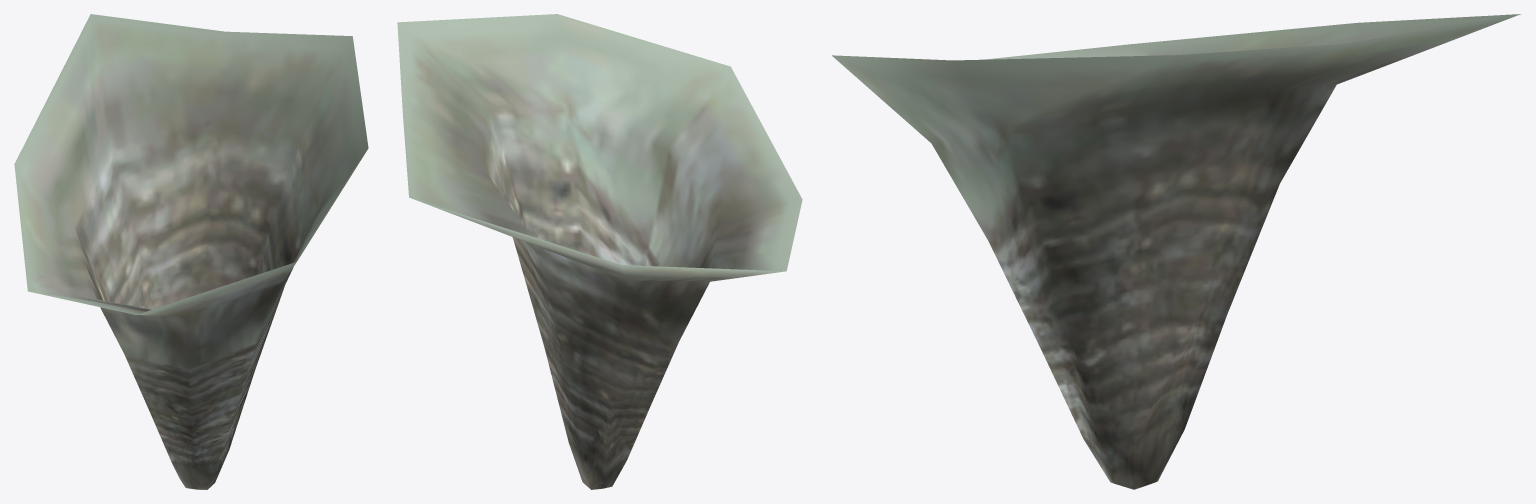
The model's file is TROLLHOLE02_PS-SECRETSTALAG27.fbx.
3 renders of one model, left to right at view 1: azimuth 30°, elevation 25°; view 2: azimuth 150°, elevation 25°; view 3: azimuth 270°, elevation 25°, orthographic. The views are drawn at different scales.
Parts seen in each view (by area): view 1: TROLLHOLE02_PS-SECRETSTALAG27; view 2: TROLLHOLE02_PS-SECRETSTALAG27; view 3: TROLLHOLE02_PS-SECRETSTALAG27.
Part boxes in pixels (x1=…): TROLLHOLE02_PS-SECRETSTALAG27: x1=14, y1=14, x2=368, y2=489; TROLLHOLE02_PS-SECRETSTALAG27: x1=397, y1=14, x2=802, y2=489; TROLLHOLE02_PS-SECRETSTALAG27: x1=832, y1=14, x2=1520, y2=489.
Size of the model in its own units: 16049 by 17954 by 20454.
1 material, 1 textured.
